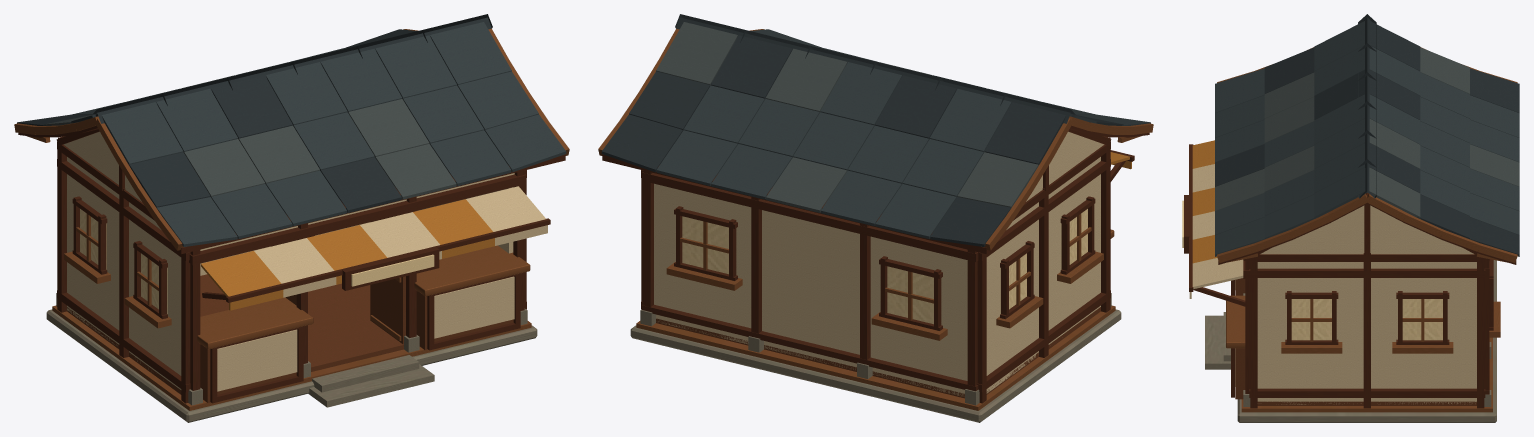
File: street_shop.glb
3 views of the same model, side by side, from view 1: azimuth 30°, elevation 25°; view 2: azimuth 150°, elevation 25°; view 3: azimuth 270°, elevation 25° (orthographic). The views are drawn at different scales.
Parts seen in each view (by area): view 1: Roof_PaperTiles, Shop_Enclosure, Shop_Counters, Shop_Awning, Windows_Sides, Foundation_Lower, Frame_SidePosts, Frame_SideBeams, Frame_FrontPosts, Roof_Ridge, Foundation_PaperLip, Roof_Bargeboards (+6 smaller); view 2: Roof_PaperTiles, Shop_Enclosure, Windows_Back, Frame_BackBeams, Frame_BackPosts, Foundation_Lower, Windows_Sides, Frame_SidePosts, Foundation_PaperLip, Frame_SideBeams, Roof_Ridge, Roof_Bargeboards (+2 smaller); view 3: Roof_PaperTiles, Shop_Enclosure, Windows_Sides, Frame_SideBeams, Gable_Paper.001, Shop_Awning, Frame_SidePosts, Foundation_Lower, Roof_Bargeboards, Shop_Counters, Foundation_PaperLip, Roof_Ridge (+7 smaller).
Boxes of the visible parts, x1,y1,x2,y2 form: Roof_PaperTiles: (17, 22, 566, 246); Shop_Enclosure: (67, 157, 526, 394); Shop_Counters: (197, 245, 530, 403); Shop_Awning: (201, 186, 550, 310); Windows_Sides: (64, 196, 171, 328); Foundation_Lower: (46, 309, 537, 422); Frame_SidePosts: (57, 143, 526, 403); Frame_SideBeams: (57, 142, 526, 392); Frame_FrontPosts: (188, 170, 527, 405); Roof_Ridge: (92, 14, 492, 123); Foundation_PaperLip: (52, 305, 531, 410); Roof_Bargeboards: (14, 28, 569, 250); Roof_PaperTiles: (601, 22, 1150, 246); Shop_Enclosure: (654, 137, 1110, 398); Windows_Back: (666, 206, 947, 340); Frame_BackBeams: (642, 172, 978, 391); Frame_BackPosts: (640, 170, 979, 405); Foundation_Lower: (630, 309, 1121, 422); Windows_Sides: (996, 196, 1103, 328); Frame_SidePosts: (641, 143, 1110, 403); Foundation_PaperLip: (636, 305, 1115, 410); Frame_SideBeams: (641, 142, 1110, 392); Roof_Ridge: (675, 14, 1075, 123); Roof_Bargeboards: (598, 28, 1153, 250); Roof_PaperTiles: (1215, 21, 1519, 256); Shop_Enclosure: (1243, 258, 1476, 405); Windows_Sides: (1281, 291, 1453, 353); Frame_SideBeams: (1249, 254, 1485, 397); Gable_Paper.001: (1260, 205, 1473, 254); Shop_Awning: (1189, 140, 1245, 306); Frame_SidePosts: (1250, 253, 1484, 408); Foundation_Lower: (1237, 260, 1496, 422); Roof_Bargeboards: (1217, 47, 1517, 262); Shop_Counters: (1226, 278, 1245, 399); Foundation_PaperLip: (1241, 337, 1492, 412); Roof_Ridge: (1358, 14, 1376, 198).
Size of the model in its own units: 7.07 by 4.62 by 5.78.
10 materials, 10 textured.
